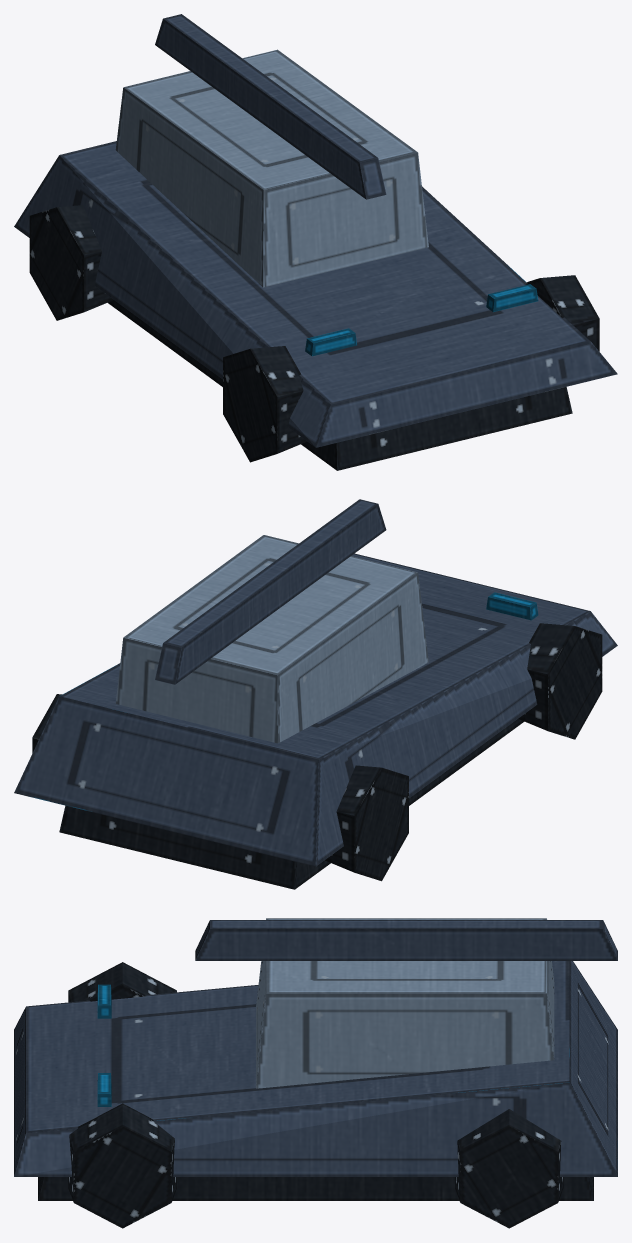
Rendered from unit-repair.fbx.
3 views of the same model, one above another, from view 1: azimuth 30°, elevation 25°; view 2: azimuth 150°, elevation 25°; view 3: azimuth 270°, elevation 25° (orthographic).
Parts seen in each view (by area): view 1: unit-repair; view 2: unit-repair; view 3: unit-repair.
Boxes of the visible parts, left/top/right/bottom form: unit-repair: left=14, top=14, right=617, bottom=470; unit-repair: left=14, top=499, right=617, bottom=889; unit-repair: left=14, top=918, right=617, bottom=1228.
Size of the model in its own units: 323 by 219 by 520.
1 material, 1 textured.
